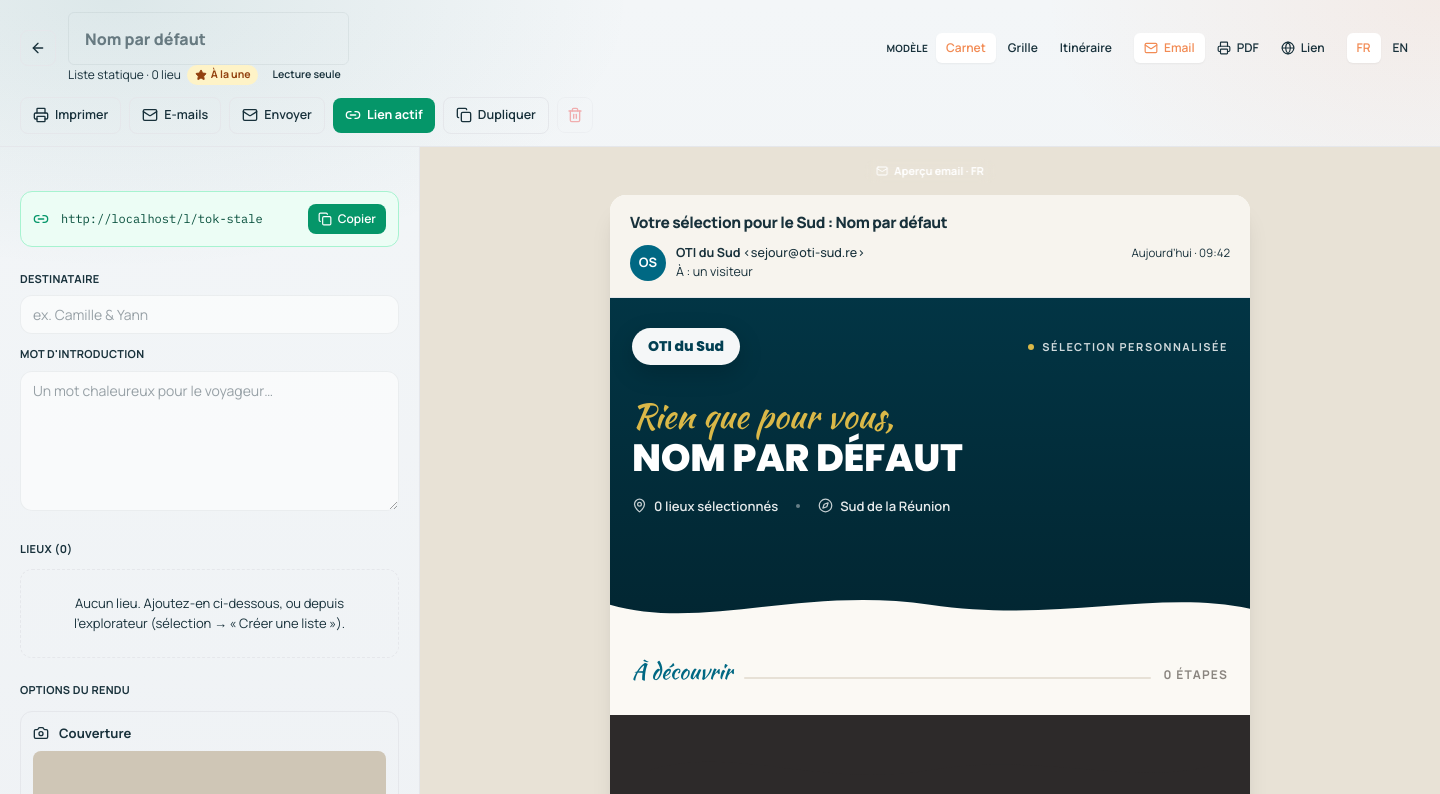
Test: ListComposeView — copier le lien revérifie AU CLIC, jamais depuis le cache (revue finale) › succès : le token FRAIS renvoyé par ensureListShareLink est celui effectivement copié
Click the button "Lien actif" at (384,115), box [333,98,435,133]
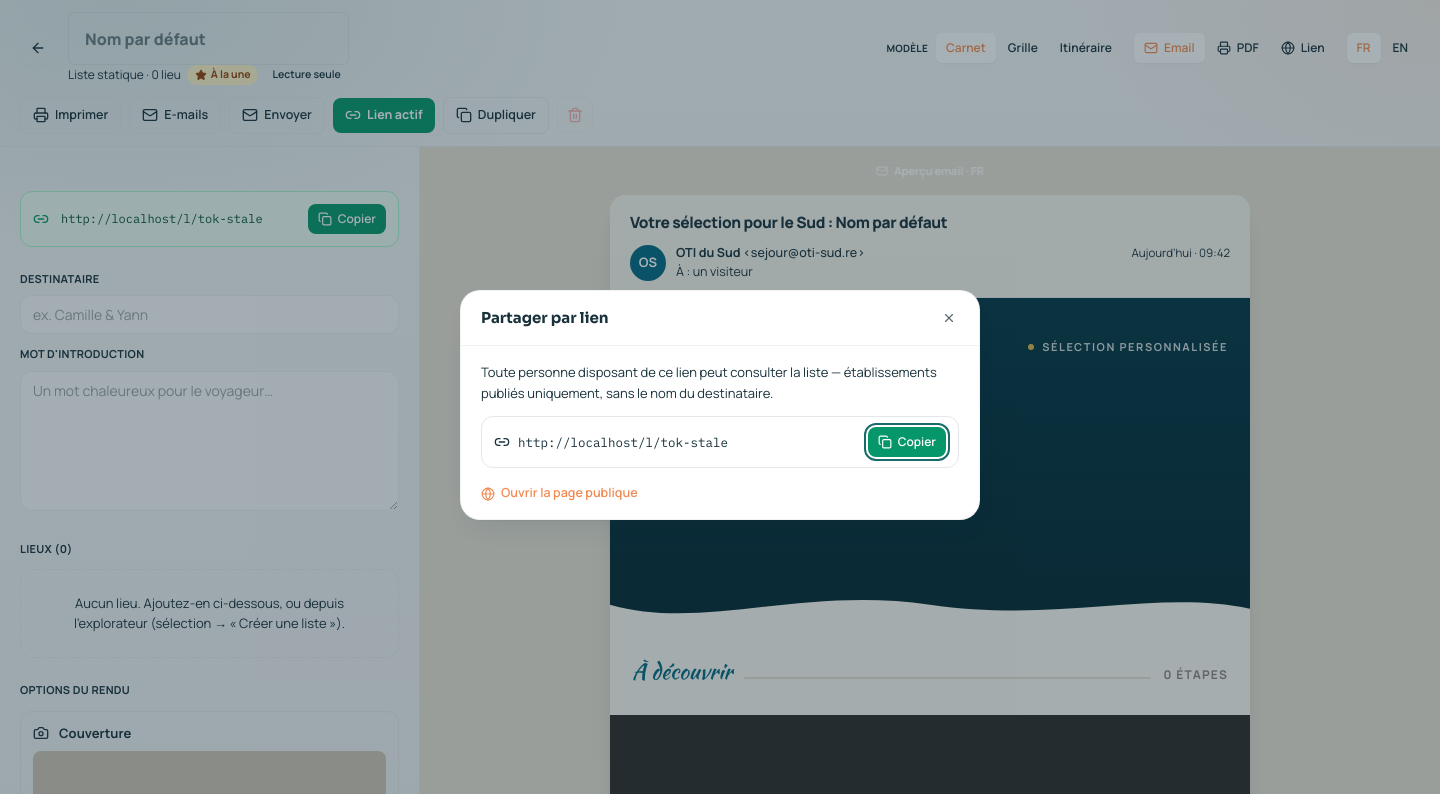
Click the button "Copier" at (907,442), box [868,427,946,457]
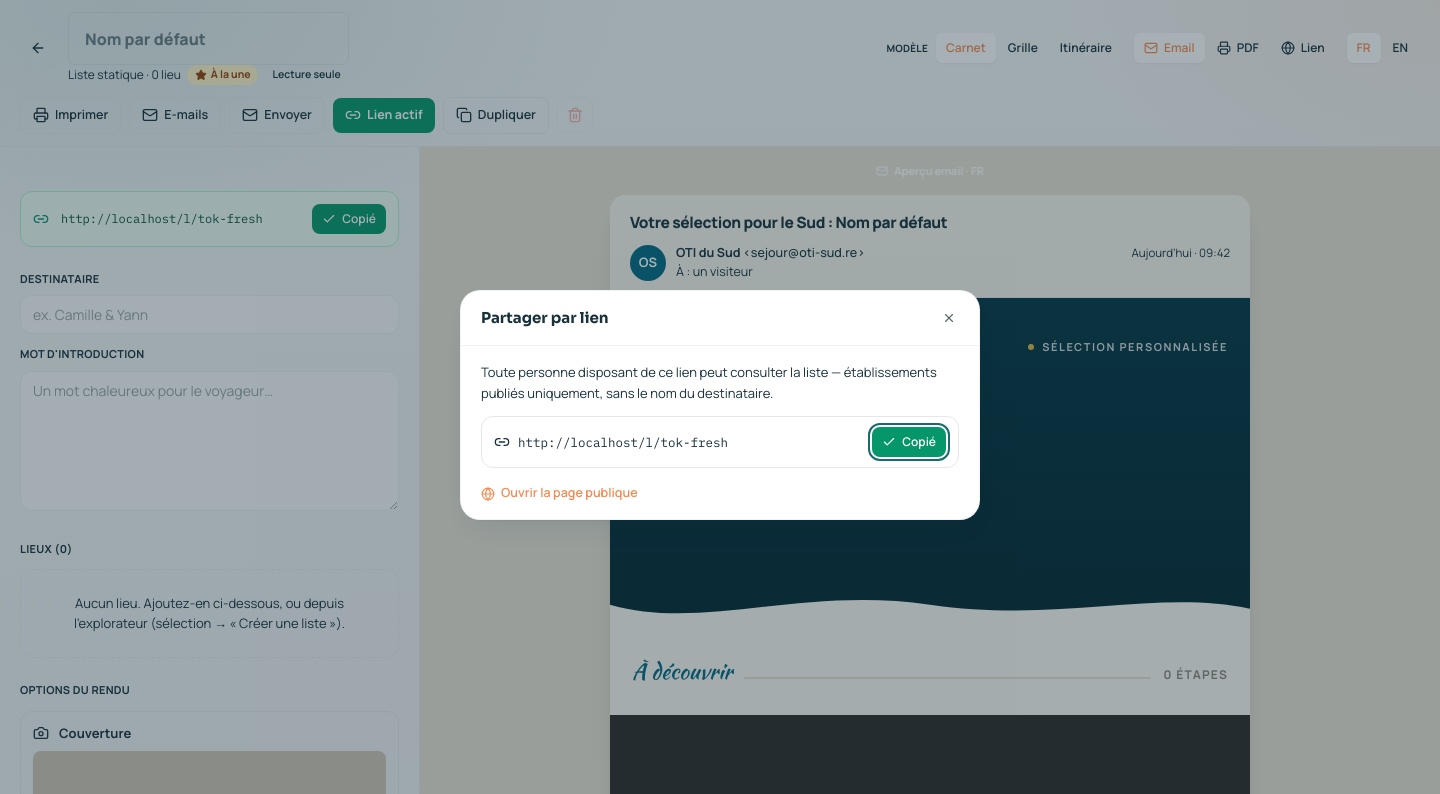
Check: the button "Copié" is shown, box [872,427,946,457]
